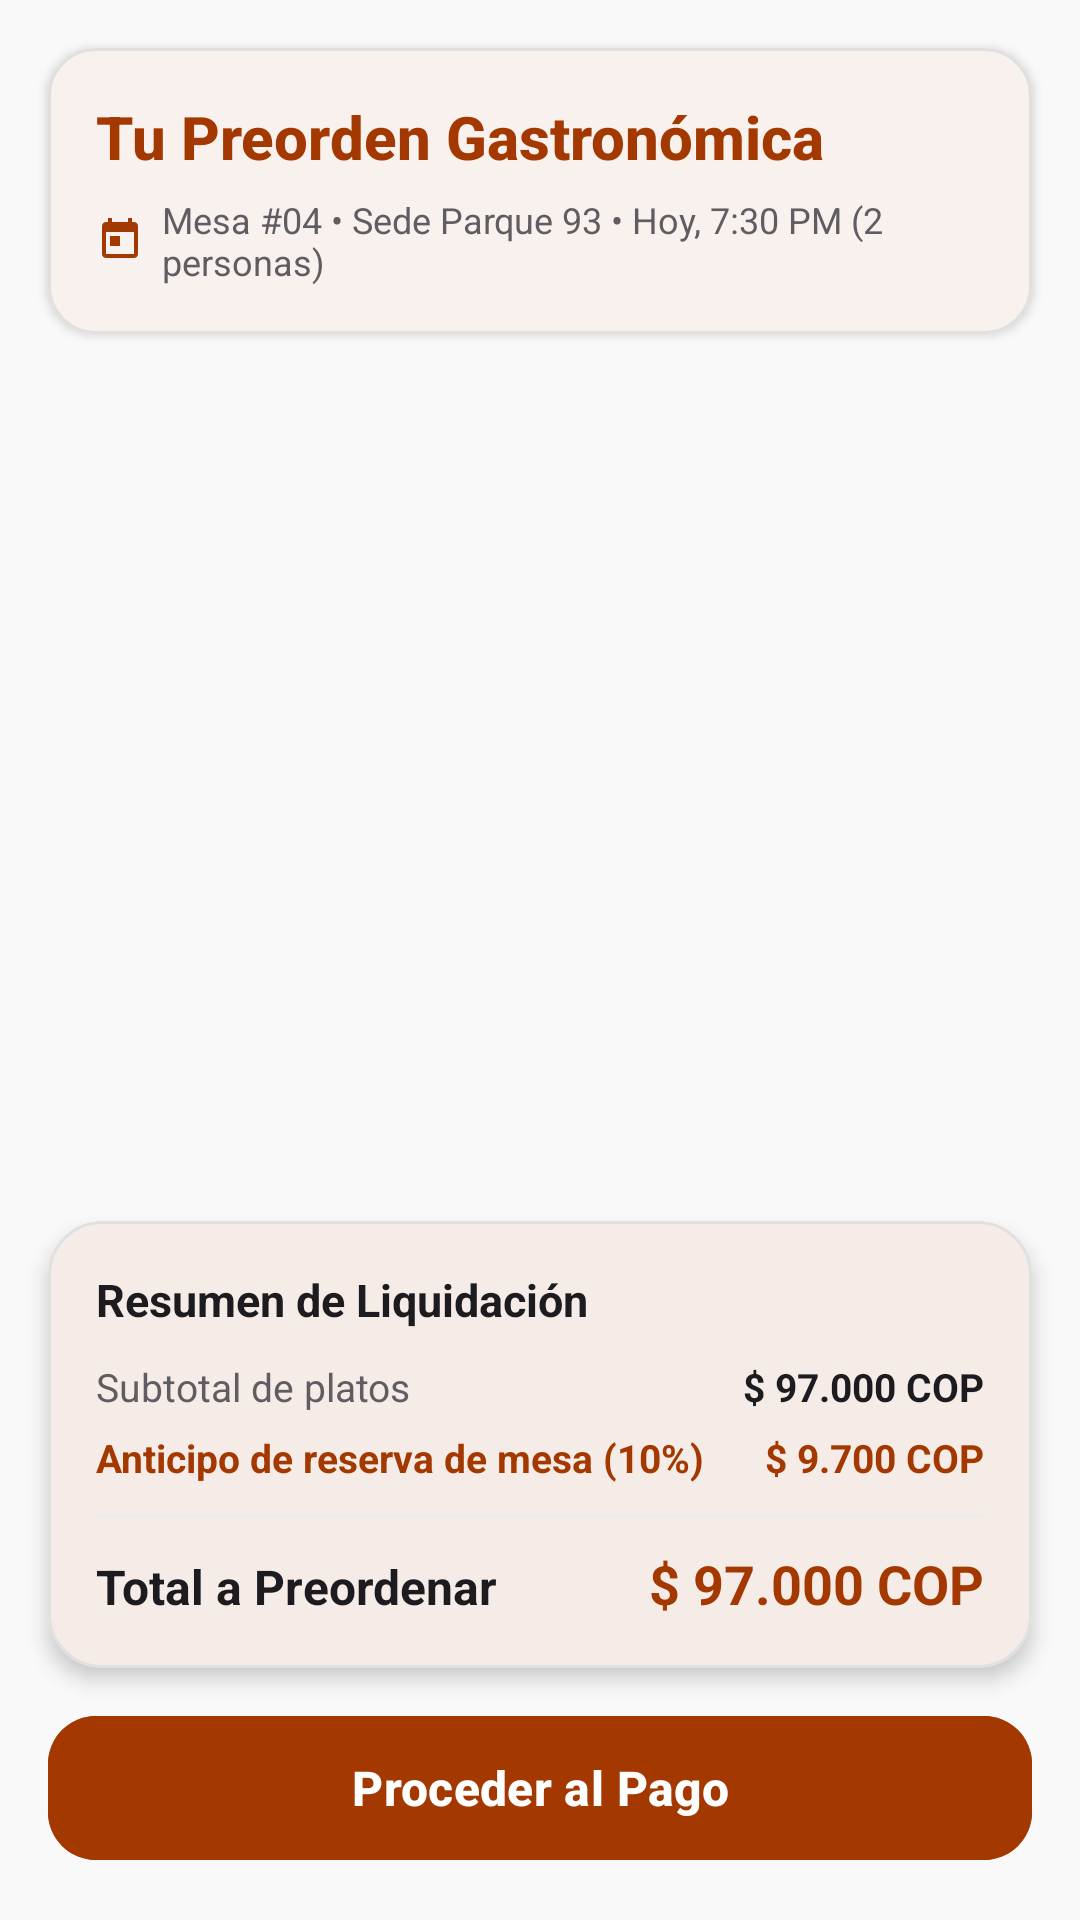

Point at icon controls on the screen. Image size 1080x1920, points as (x=x, y=y).
Icono de reserva: (x=120, y=238)
